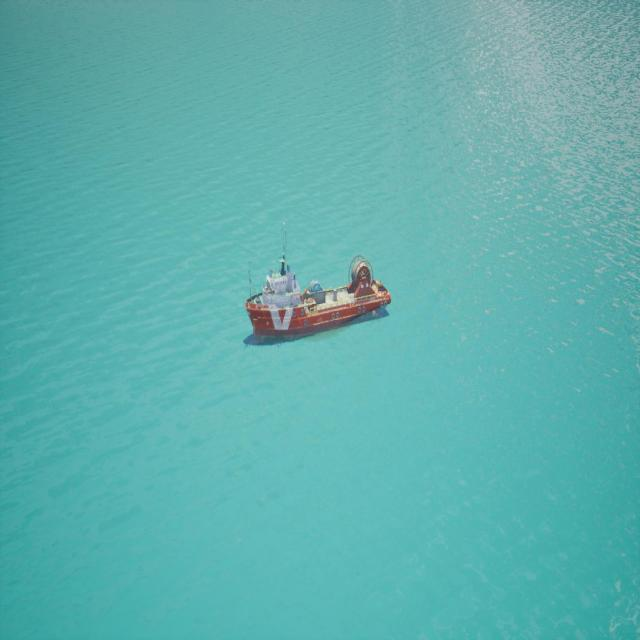tug boat: (246, 243, 390, 346)
